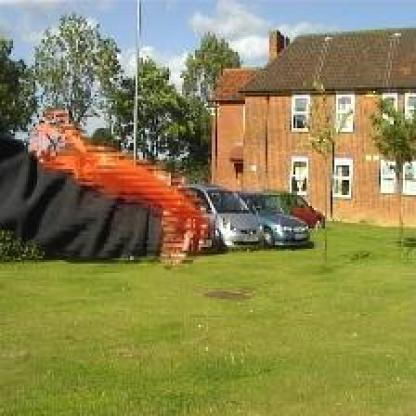other: (25, 115, 210, 226)
